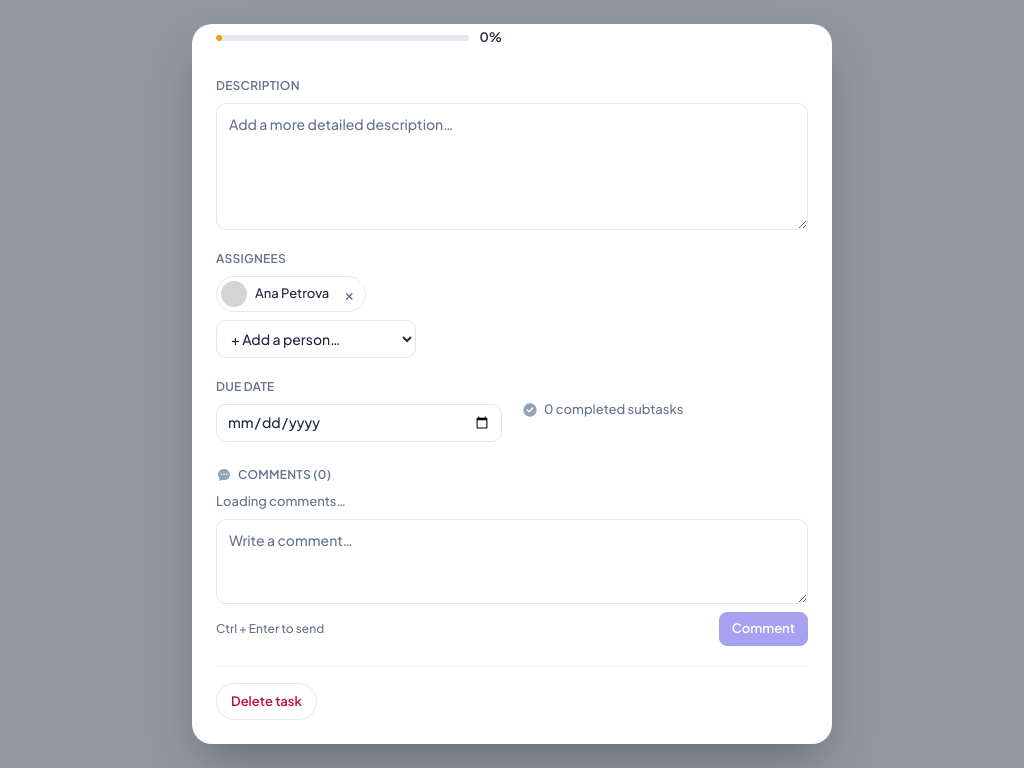
Test case: TaskModal: comments › keeps a just-posted comment when an older list arrives from the server
The image size is (1024, 768).
(page scrolled)
Type "Posted while loading" into the text box labelled "Write a comment" at {"x": 512, "y": 562}, box [216,519,808,604]
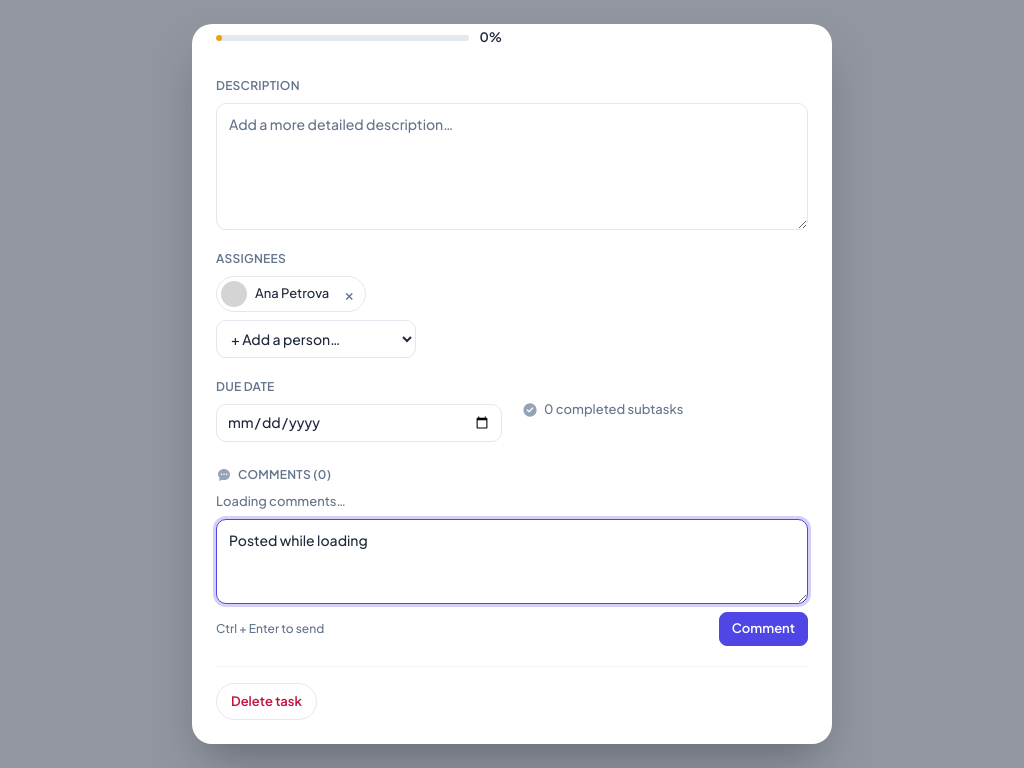
Click the button "Comment" at {"x": 763, "y": 629}, box [719,612,808,646]
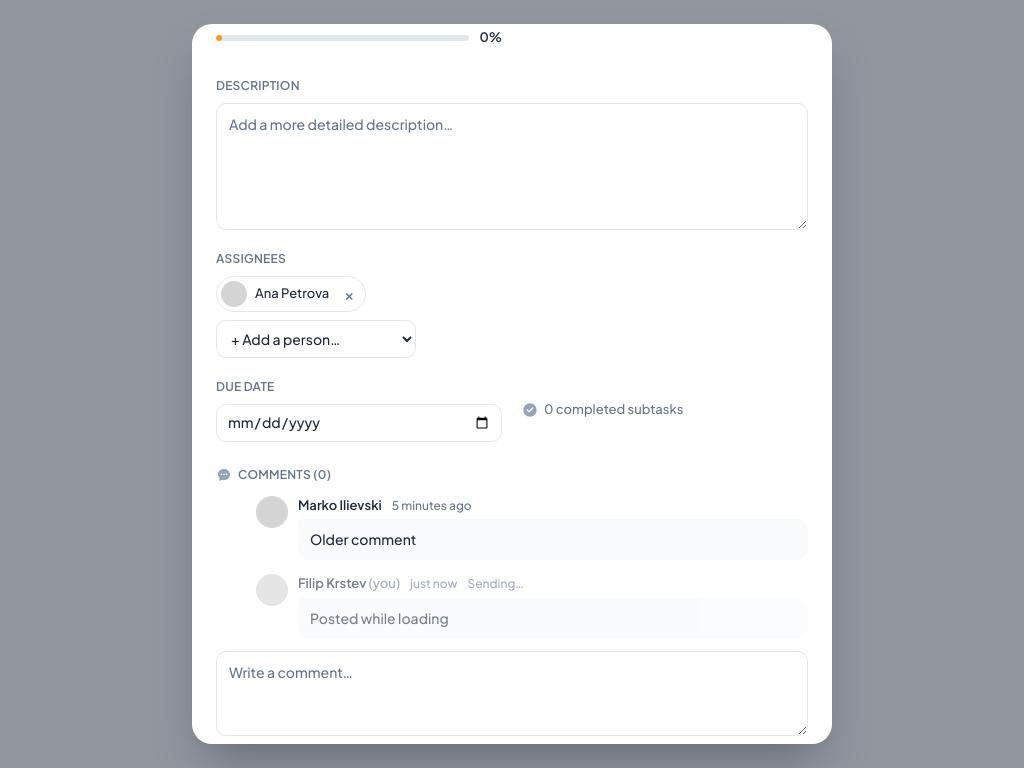
Expected: the text "Older comment" is shown, [298,519,808,560]
Expected: the text "Posted while loading" is shown, [298,598,808,639]
